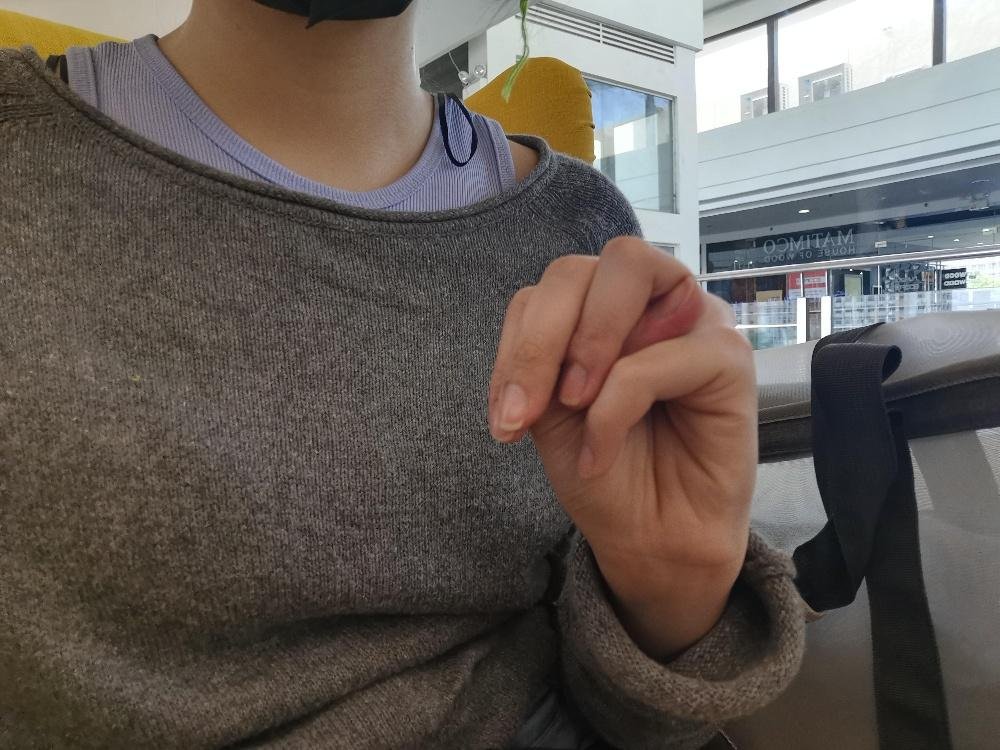m: (485, 232, 758, 566)
